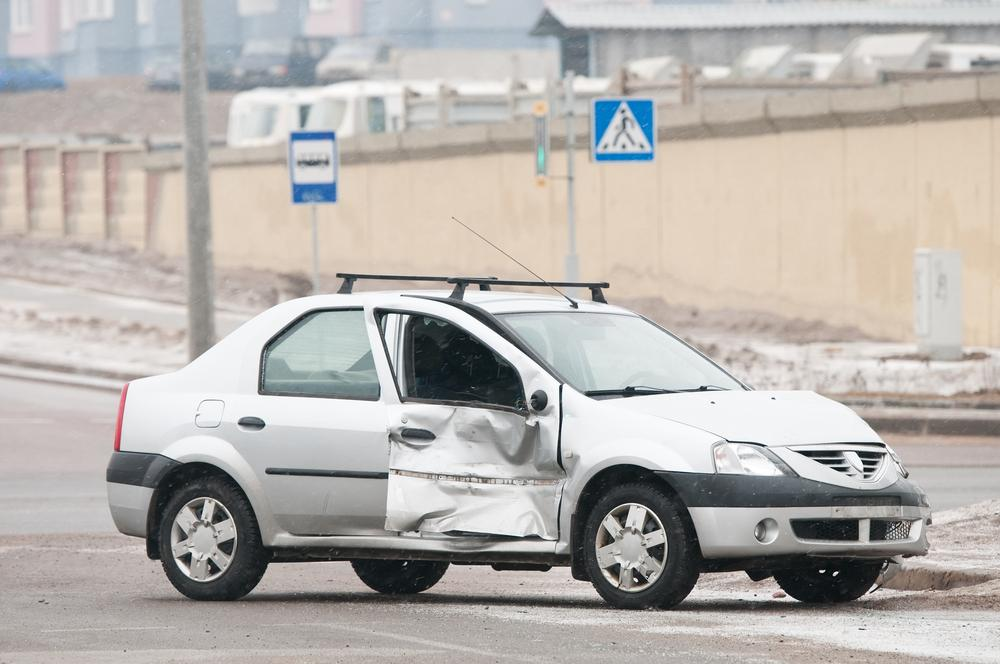dent: (389, 407, 568, 539)
